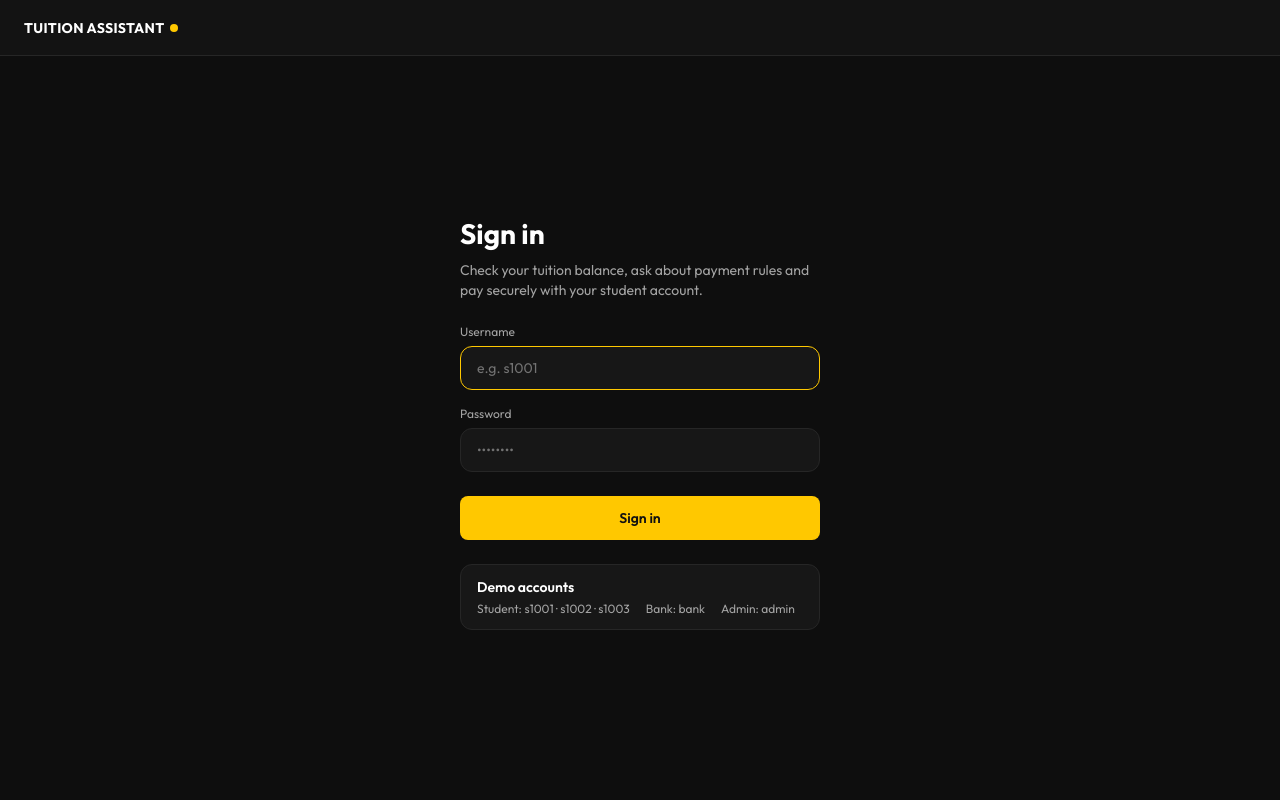
Test: login screen › signs out from the account menu and forgets the token
This screenshot has width=1280, height=800.
Step 1. Type "s1001" into the field labelled "Username" → (640, 368), box x1=460 y1=346 x2=820 y2=390
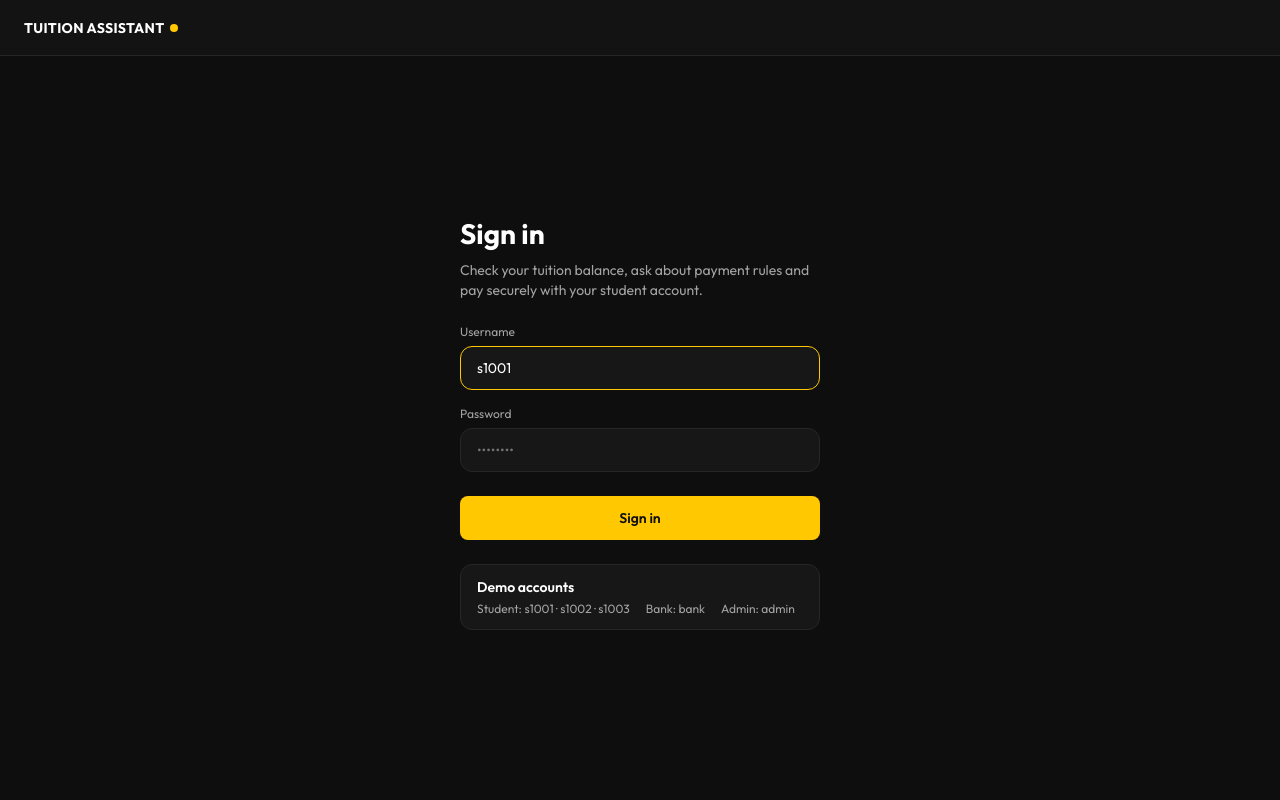
Step 2. Type "right" into the password field labelled "Password" → (640, 450), box x1=460 y1=428 x2=820 y2=472
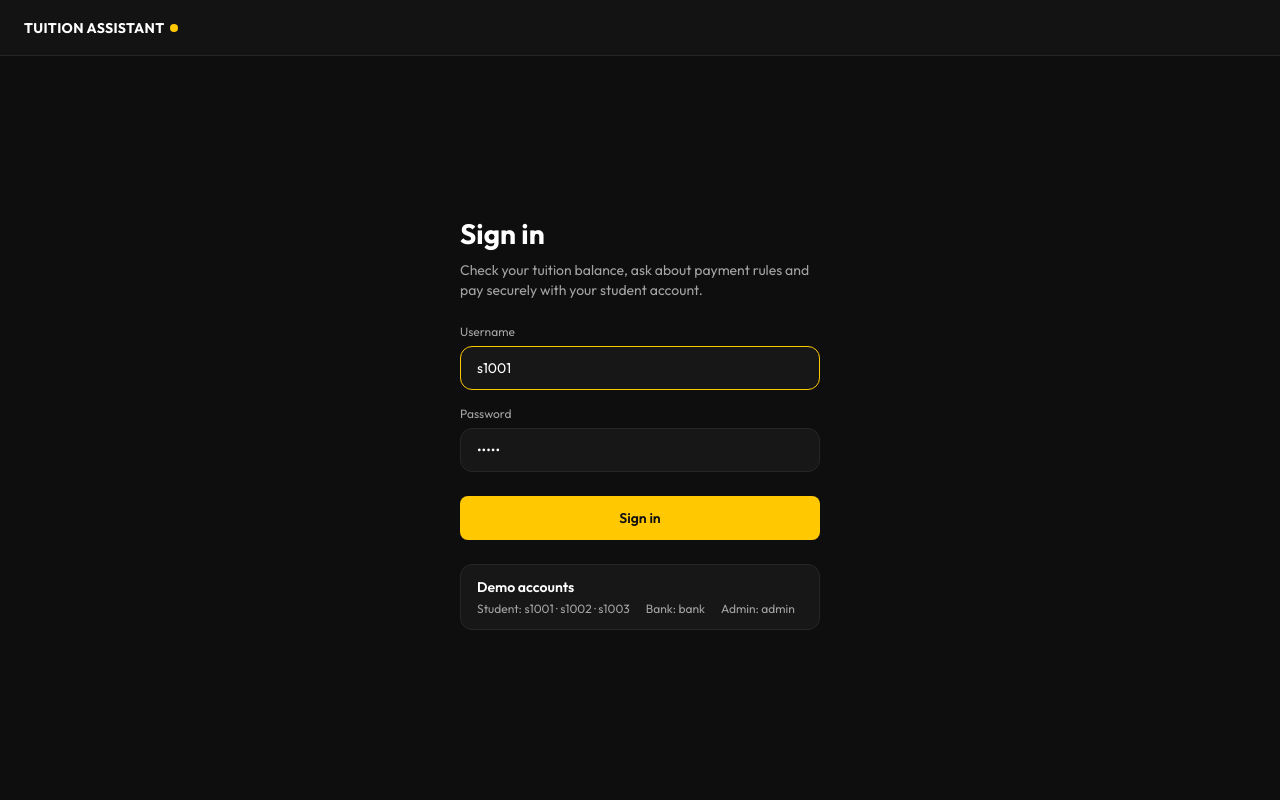
Step 3. Click the button "Sign in" → (640, 518), box x1=460 y1=496 x2=820 y2=540
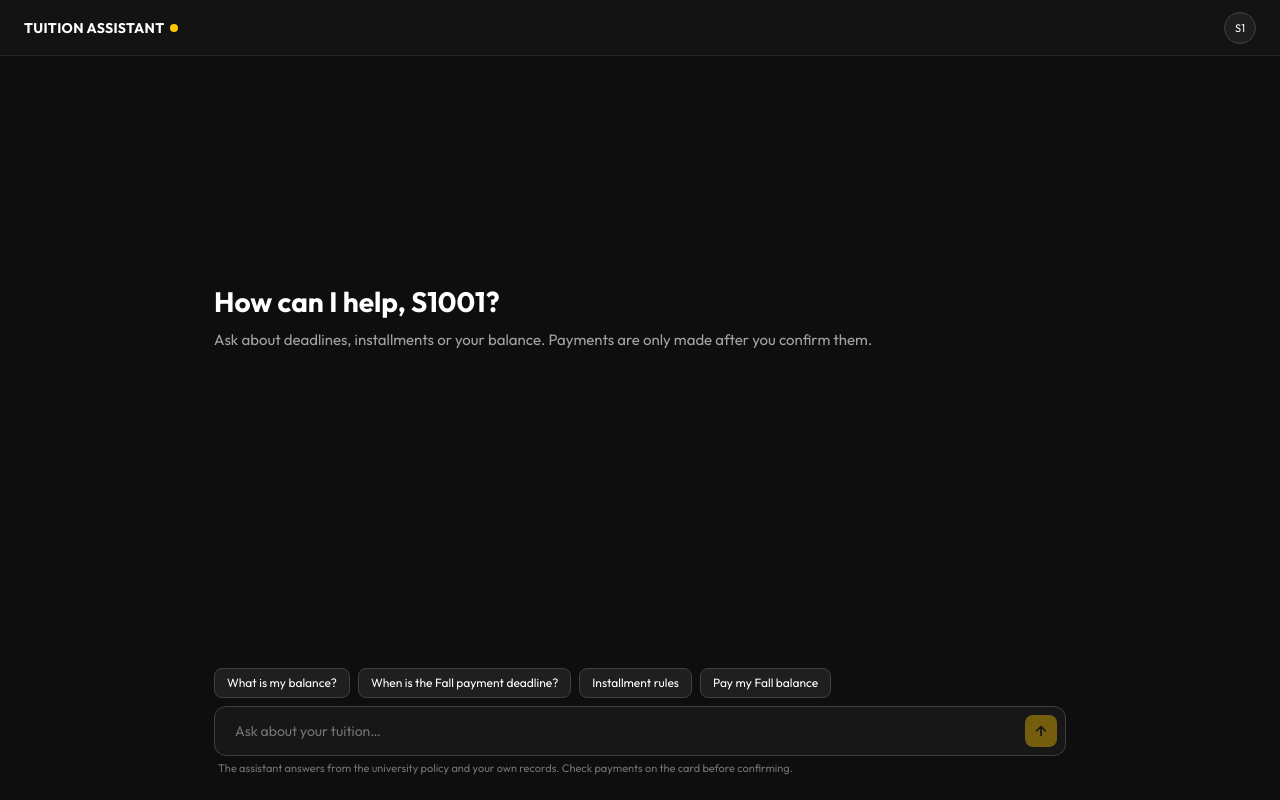
Step 4. Click the button named "Account menu" → (1240, 28), box x1=1224 y1=12 x2=1256 y2=44
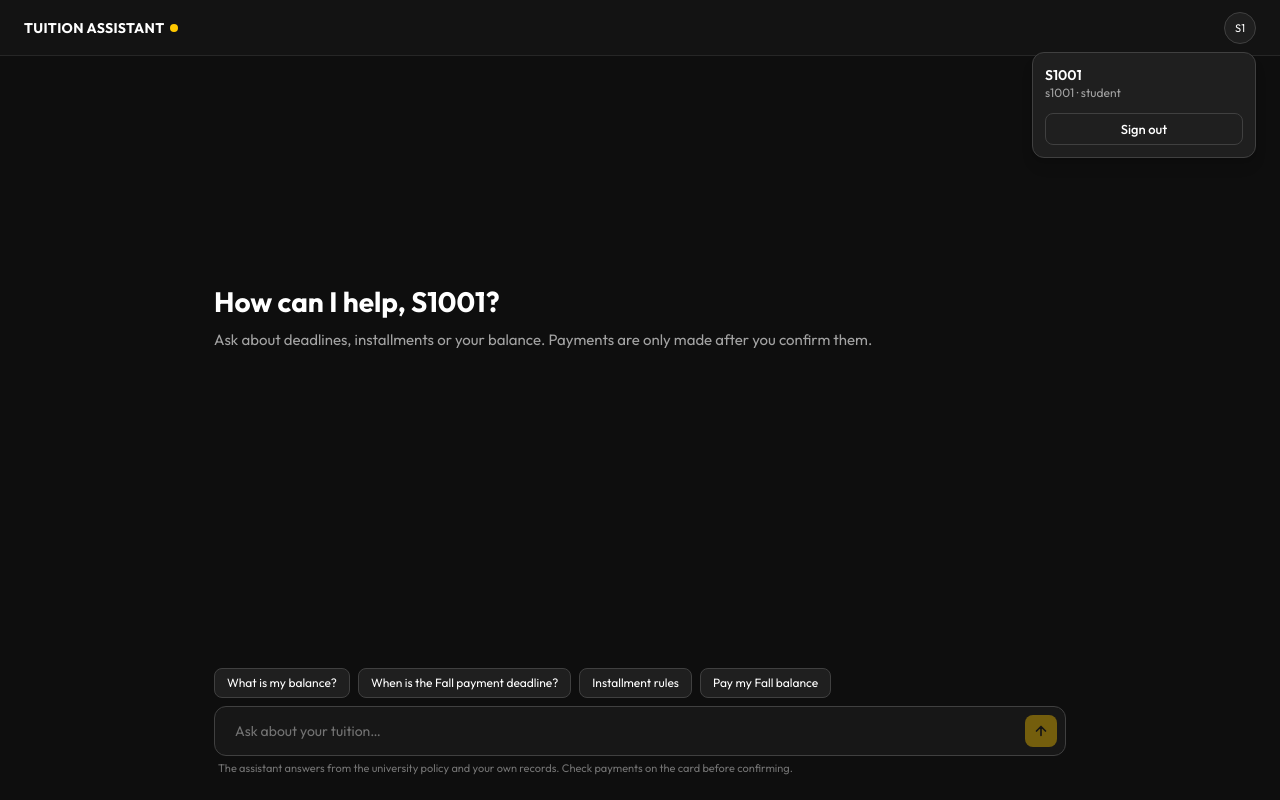
Step 5. Click the menu item "Sign out" → (1144, 128), box x1=1045 y1=112 x2=1243 y2=144
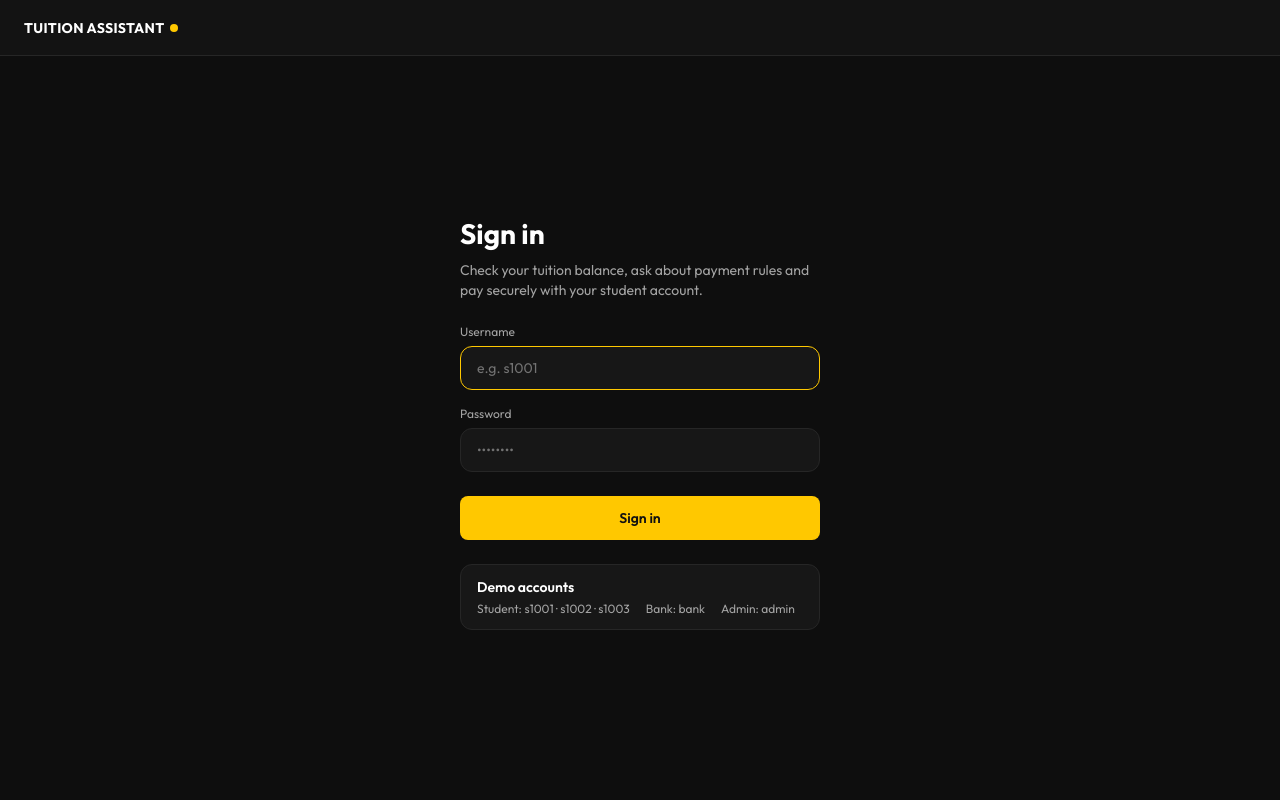
Expected: the heading "Sign in" is shown, x1=460 y1=216 x2=545 y2=251
